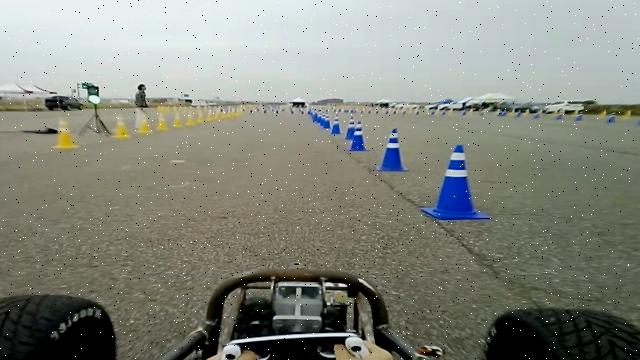blue cone: (420, 144, 493, 219), (376, 127, 410, 172), (348, 132, 369, 151), (344, 126, 356, 140), (331, 122, 342, 134), (88, 94, 101, 104), (606, 112, 616, 123), (638, 116, 640, 125)
yellow cone: (52, 119, 80, 149), (112, 114, 130, 138), (136, 111, 153, 134), (156, 112, 169, 131), (172, 111, 183, 128), (195, 107, 206, 124), (186, 112, 196, 126), (58, 118, 68, 132), (206, 107, 215, 122), (214, 107, 223, 120), (622, 109, 632, 120), (235, 106, 244, 116), (225, 110, 234, 119)
